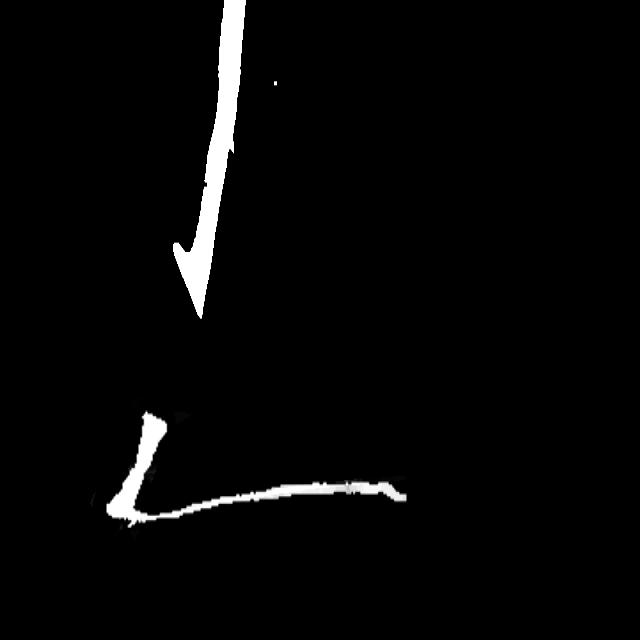sup_pli: (124, 510, 138, 536)
